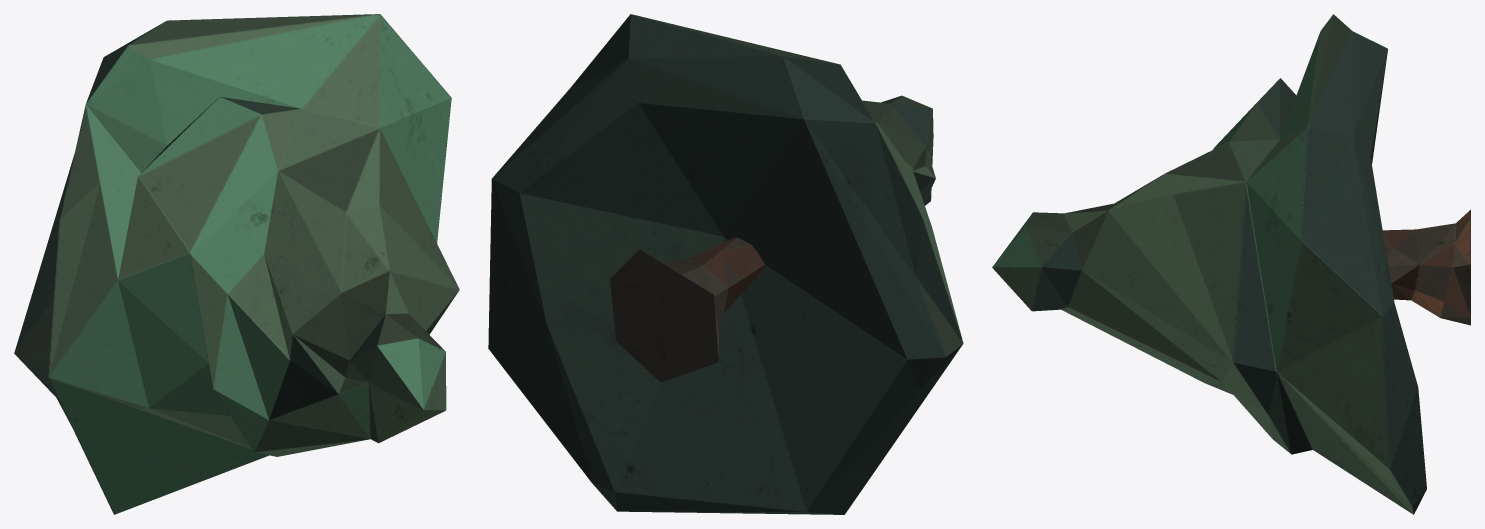
Rendered from tree.obj.
3 renders of one model, left to right at view 1: azimuth 30°, elevation 25°; view 2: azimuth 150°, elevation 25°; view 3: azimuth 270°, elevation 25°, orthographic. The views are drawn at different scales.
Visible parts, largest first — view 1: Object.1; view 2: Object.1; view 3: Object.1.
Boxes of the visible parts, x1,y1,x2,y2 form: Object.1: (14,14,459,514); Object.1: (488,14,963,514); Object.1: (992,14,1470,514).
Size of the model in its own units: 152 by 157 by 161.
Materials: 1 (1 with a texture image).
